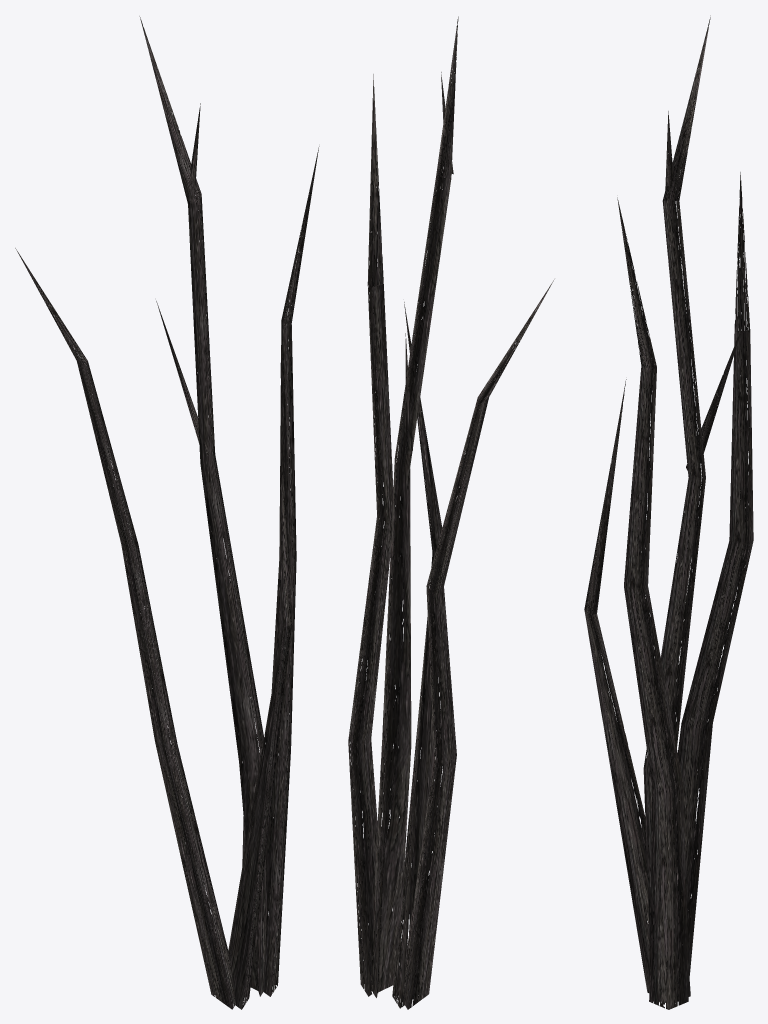
Rendered from Tree05.obj.
The picture shows the model from 3 angles, left to right: view 1: azimuth 30°, elevation 25°; view 2: azimuth 150°, elevation 25°; view 3: azimuth 270°, elevation 25°; orthographic projection. The views are drawn at different scales.
Visible parts, largest first — view 1: Mesh_0; view 2: Mesh_0; view 3: Mesh_0.
Boxes of the visible parts, <box> form: Mesh_0: <box>15,16,319,1009</box>; Mesh_0: <box>348,16,554,1009</box>; Mesh_0: <box>584,15,753,1009</box>.
Bounding box in the file's own units: 0.9053 × 3.55 × 0.5757.
1 material, 1 textured.
